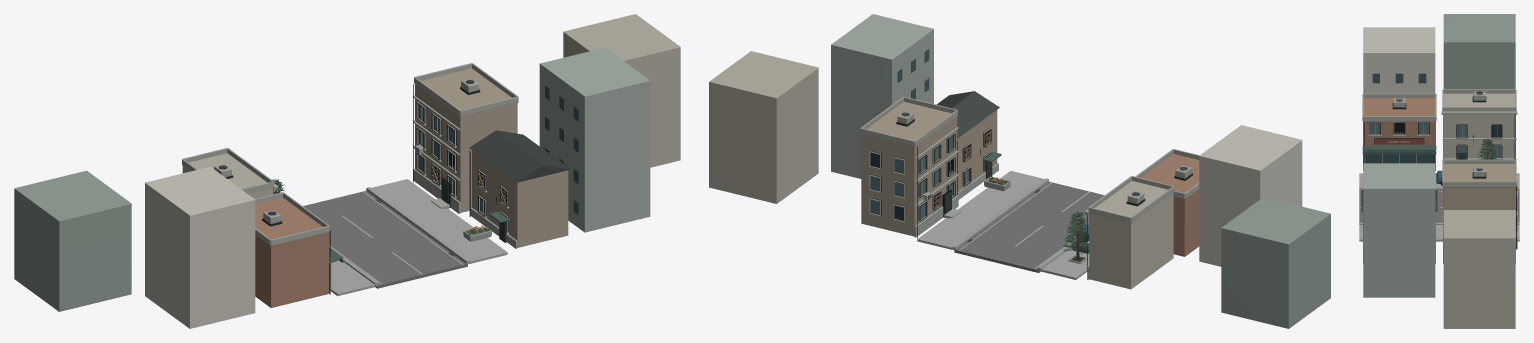
Rendered from city_hd_01.glb.
3 views of the same model, side by side, from view 1: azimuth 30°, elevation 25°; view 2: azimuth 150°, elevation 25°; view 3: azimuth 270°, elevation 25° (orthographic). The views are drawn at different scales.
Visible parts, largest first — view 1: Background city building.002, Background city building, Background city building.001, CITY_realwall_a99d8c, CITY_realwall_b7b2a5, CITY_PBR_asphalt, Mixed use shop volume, CITY_trim, CITY_PBR_pavement, CITY_roof, CITY_recess, CITY_frame (+5 smaller); view 2: CITY_realwall_b7b2a5, Background city building.001, Background city building.002, CITY_realwall_a99d8c, Background city building, CITY_PBR_asphalt, CITY_trim, CITY_PBR_pavement, Mixed use shop volume, CITY_recess, CITY_frame, CITY_roof (+5 smaller); view 3: CITY_realwall_b7b2a5, Background city building.002, Background city building.001, Background city building, CITY_realwall_a99d8c, CITY_trim, Mixed use shop volume, CITY_shop_glass, CITY_lettering, CITY_glass, CITY_darkmetal, CITY_frame (+9 smaller).
Part boxes in pixels (x1,y1,x2,y2): Background city building.002: (539, 47, 650, 232); Background city building: (145, 166, 255, 328); Background city building.001: (14, 170, 131, 311); CITY_realwall_a99d8c: (415, 68, 568, 247); CITY_realwall_b7b2a5: (182, 14, 680, 198); CITY_PBR_asphalt: (303, 191, 467, 288); Mixed use shop volume: (255, 197, 328, 307); CITY_trim: (182, 63, 518, 248); CITY_PBR_pavement: (331, 179, 507, 296); CITY_roof: (460, 116, 570, 182); CITY_recess: (416, 102, 508, 232); CITY_frame: (330, 102, 508, 290); CITY_realwall_b7b2a5: (709, 51, 1173, 289); Background city building.001: (1221, 197, 1330, 328); Background city building.002: (831, 14, 933, 178); CITY_realwall_a99d8c: (861, 101, 997, 236); Background city building: (1199, 125, 1302, 266); CITY_PBR_asphalt: (954, 181, 1104, 272); CITY_trim: (860, 97, 1199, 279); CITY_PBR_pavement: (917, 171, 1089, 279); Mixed use shop volume: (1141, 154, 1199, 256); CITY_recess: (870, 128, 991, 221); CITY_frame: (869, 128, 991, 222); CITY_roof: (914, 91, 1184, 199); CITY_realwall_b7b2a5: (1443, 93, 1515, 328); Background city building.002: (1363, 163, 1435, 297); Background city building.001: (1443, 14, 1515, 89); Background city building: (1363, 27, 1435, 93); CITY_realwall_a99d8c: (1363, 164, 1515, 264); CITY_trim: (1362, 89, 1517, 187); Mixed use shop volume: (1363, 98, 1435, 170); CITY_shop_glass: (1366, 150, 1432, 163); CITY_lettering: (1362, 145, 1436, 154); CITY_glass: (1370, 123, 1501, 157); CITY_darkmetal: (1364, 91, 1515, 178); CITY_frame: (1364, 122, 1517, 249).
Size of the model in its own units: 57.3 by 12.26 by 16.
